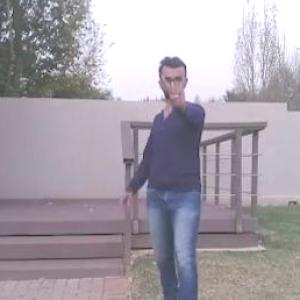takeoff-hand: (157, 70, 194, 115)
